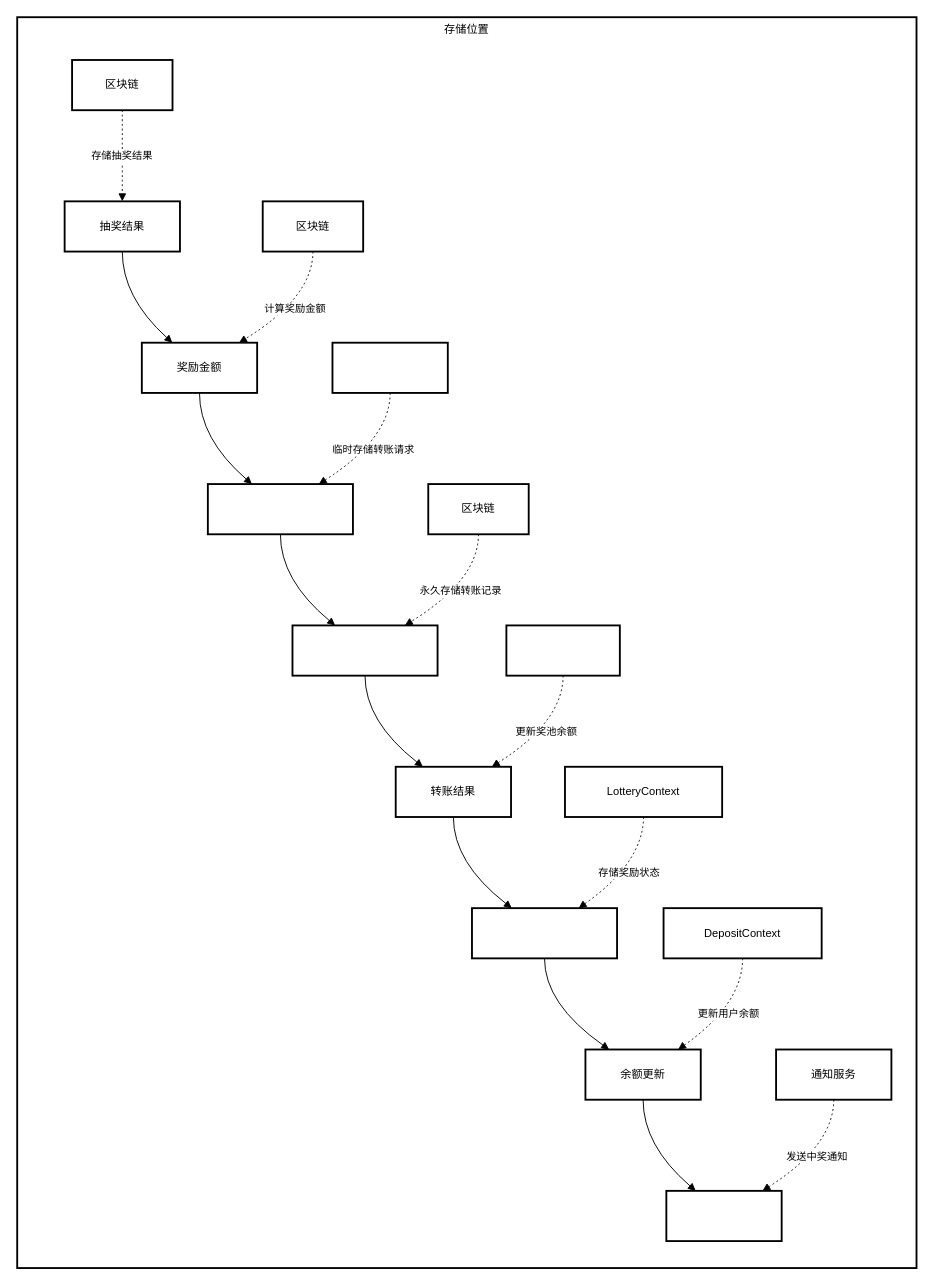
The diagram is 933 pixels wide and 1284 high, and some of its shapes have lost their labels. The box of each missing label's shape, as (x1, y1, x2, y2) in pixels:
Pool合约: (505, 624, 620, 676)
代币转账交易: (291, 624, 438, 676)
内存状态: (331, 341, 448, 393)
奖励发放确认: (471, 907, 618, 959)
用户通知: (665, 1189, 782, 1242)
资金转移请求: (206, 483, 353, 535)
